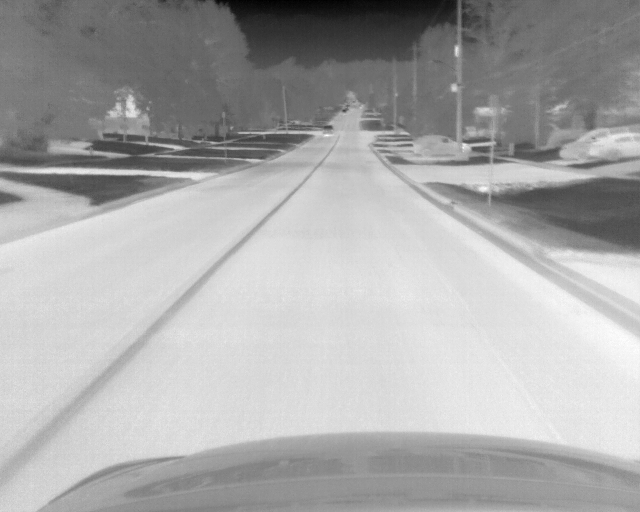car: (560, 126, 638, 163), (588, 133, 640, 162), (413, 133, 472, 156), (319, 124, 337, 137)
